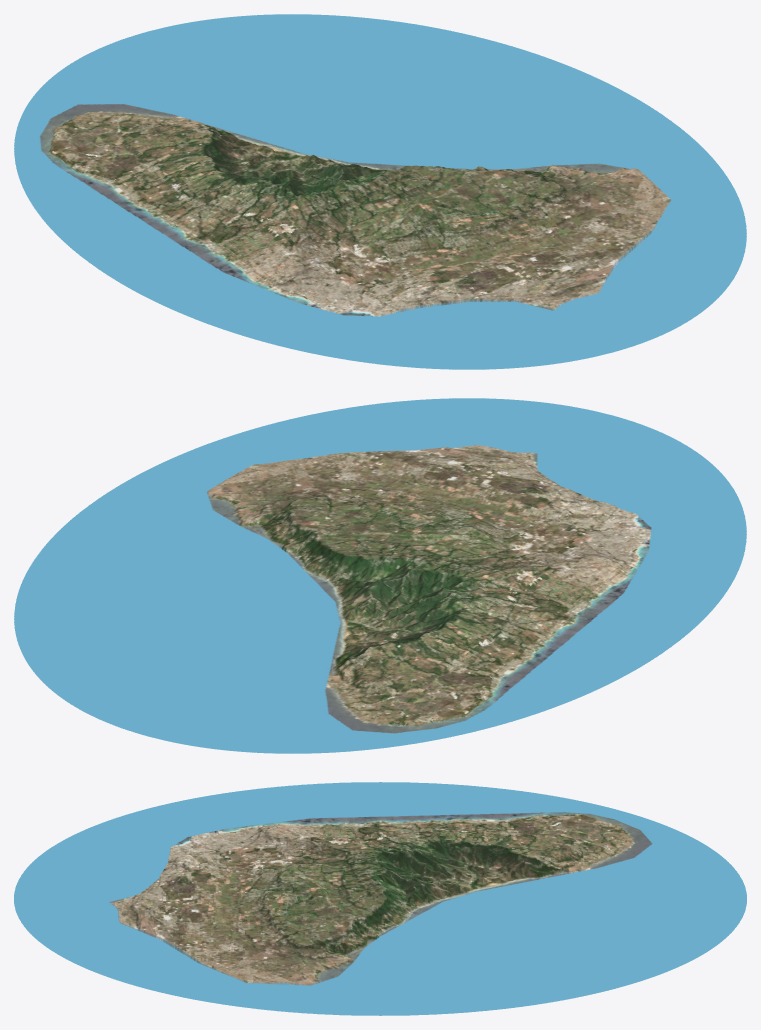
Rendered from BRB-previa-terrain.glb.
3 views of the same model, one above another, from view 1: azimuth 30°, elevation 25°; view 2: azimuth 150°, elevation 25°; view 3: azimuth 270°, elevation 25° (orthographic). The views are drawn at different scales.
Parts seen in each view (by area): view 1: Barbados; view 2: Barbados; view 3: Barbados.
Part boxes in pixels (x1,y1,x2,y2): Barbados: (14, 14, 746, 369); Barbados: (14, 398, 746, 753); Barbados: (14, 782, 746, 1015).
Bounding box in the file's own units: 1.79 × 0.0549 × 2.37.
Materials: 1 (1 with a texture image).
